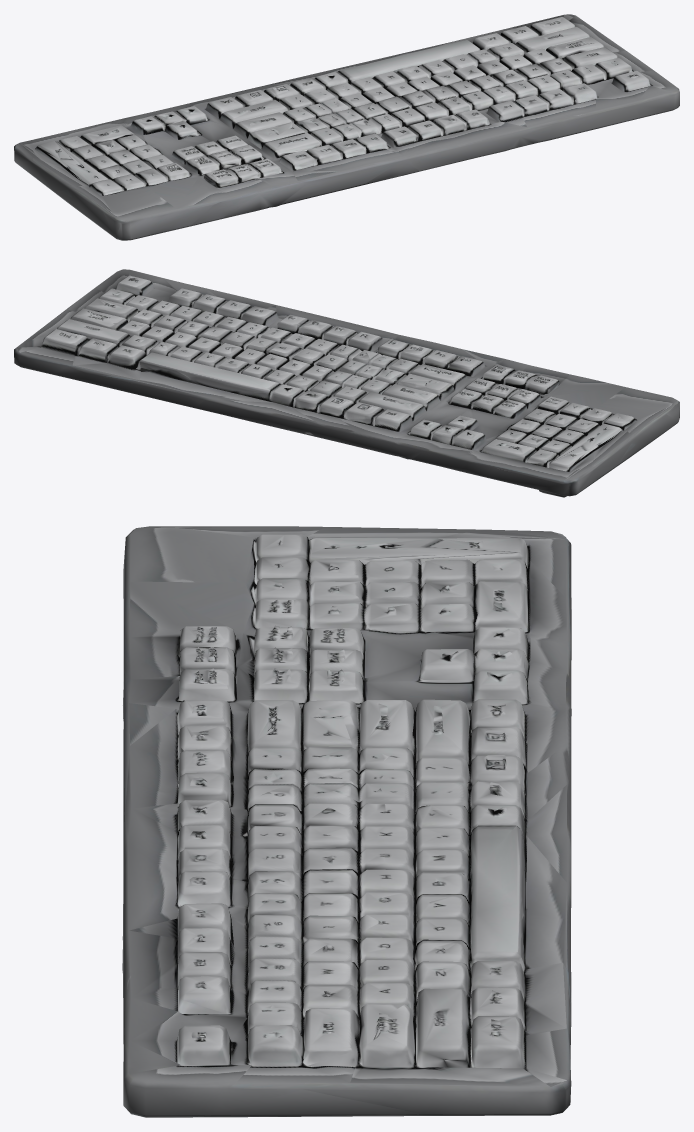
The model's file is keyboard-v67.glb.
3 renders of one model, top to bottom at view 1: azimuth 30°, elevation 25°; view 2: azimuth 150°, elevation 25°; view 3: azimuth 270°, elevation 25°, orthographic. The views are drawn at different scales.
Parts seen in each view (by area): view 1: keyboard-surface; view 2: keyboard-surface; view 3: keyboard-surface.
Boxes of the visible parts, <box> form: keyboard-surface: <box>14,14,679,240</box>; keyboard-surface: <box>14,269,679,497</box>; keyboard-surface: <box>122,526,571,1117</box>.
Bounding box in the file's own units: 0.5798 × 0.0328 × 0.2001.
Materials: 1 (1 with a texture image).
